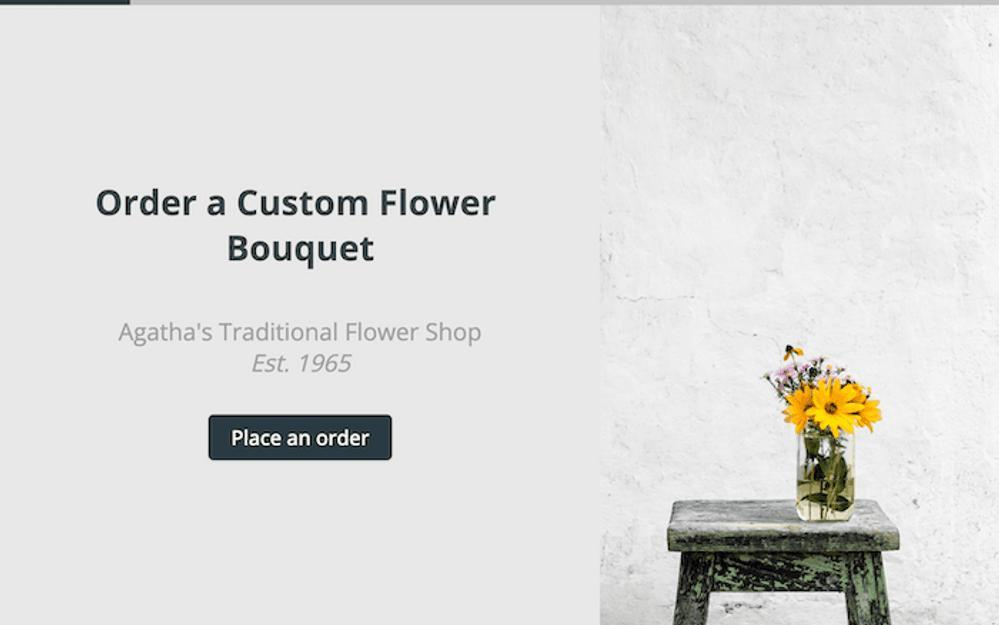button: (210, 417, 395, 464)
